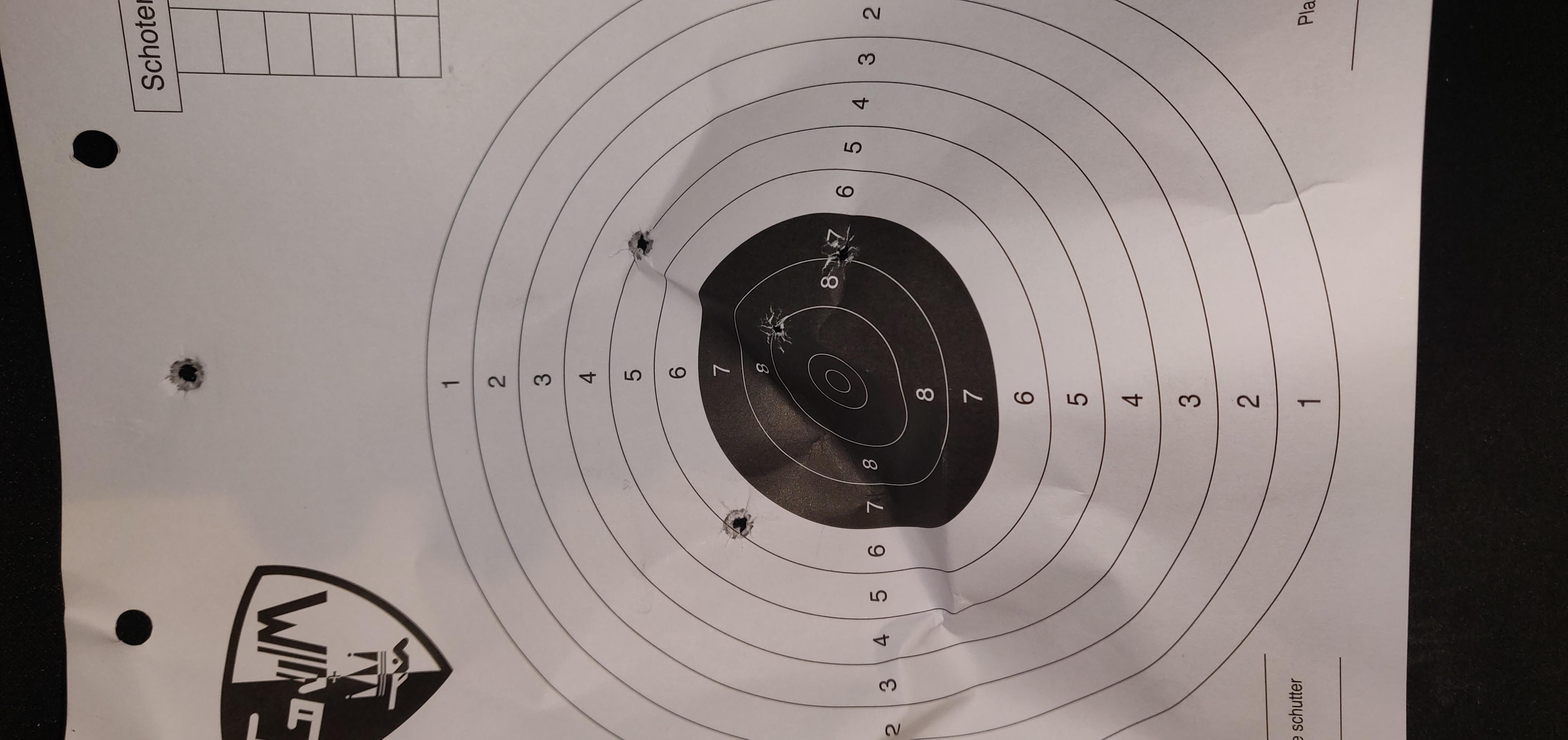hole: (167, 354, 207, 397), (823, 236, 862, 280), (718, 507, 755, 542), (760, 311, 790, 351), (628, 229, 655, 260)
